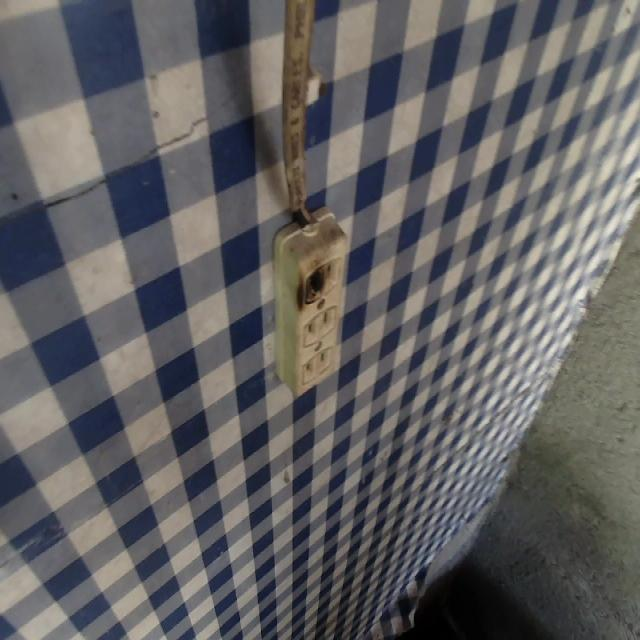-: (299, 260, 325, 309)
